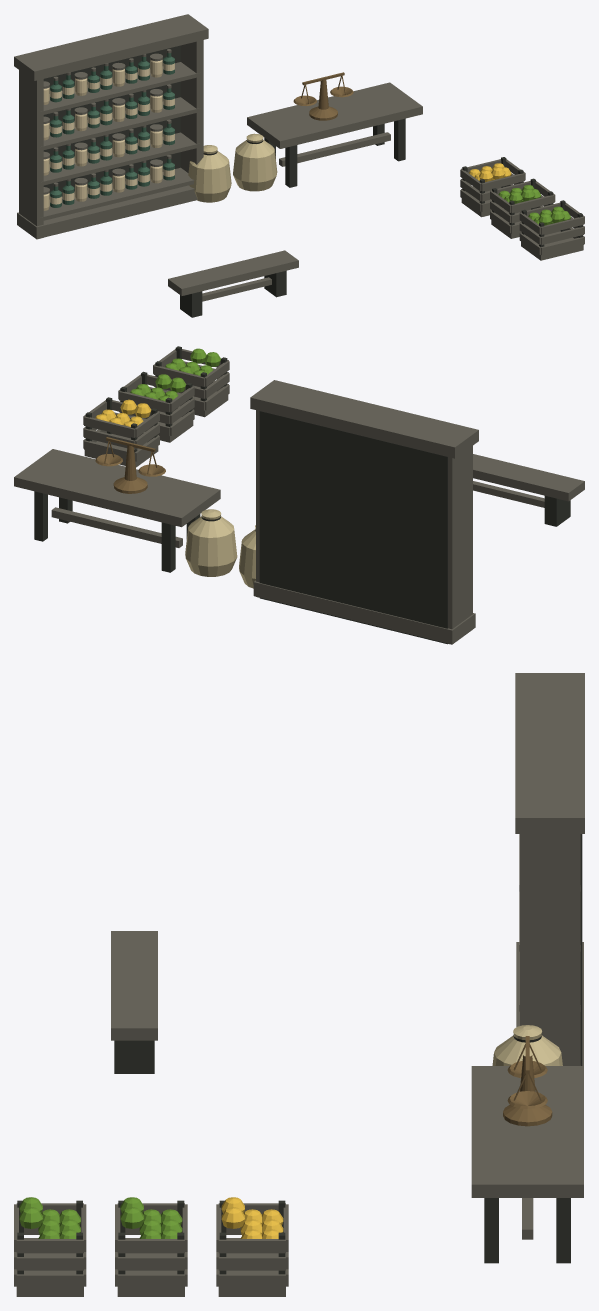
File: village_generalstore_artifacts.glb
3 views of the same model, one above another, from view 1: azimuth 30°, elevation 25°; view 2: azimuth 150°, elevation 25°; view 3: azimuth 270°, elevation 25° (orthographic). The views are drawn at different scales.
Parts seen in each view (by area): view 1: village_generalstore_artifacts; view 2: village_generalstore_artifacts; view 3: village_generalstore_artifacts.
Boxes of the visible parts, bbox=[...] form: village_generalstore_artifacts: bbox=[14, 14, 584, 317]; village_generalstore_artifacts: bbox=[14, 346, 584, 644]; village_generalstore_artifacts: bbox=[14, 673, 584, 1296].
Size of the model in its own units: 7.07 by 2.84 by 5.08.
